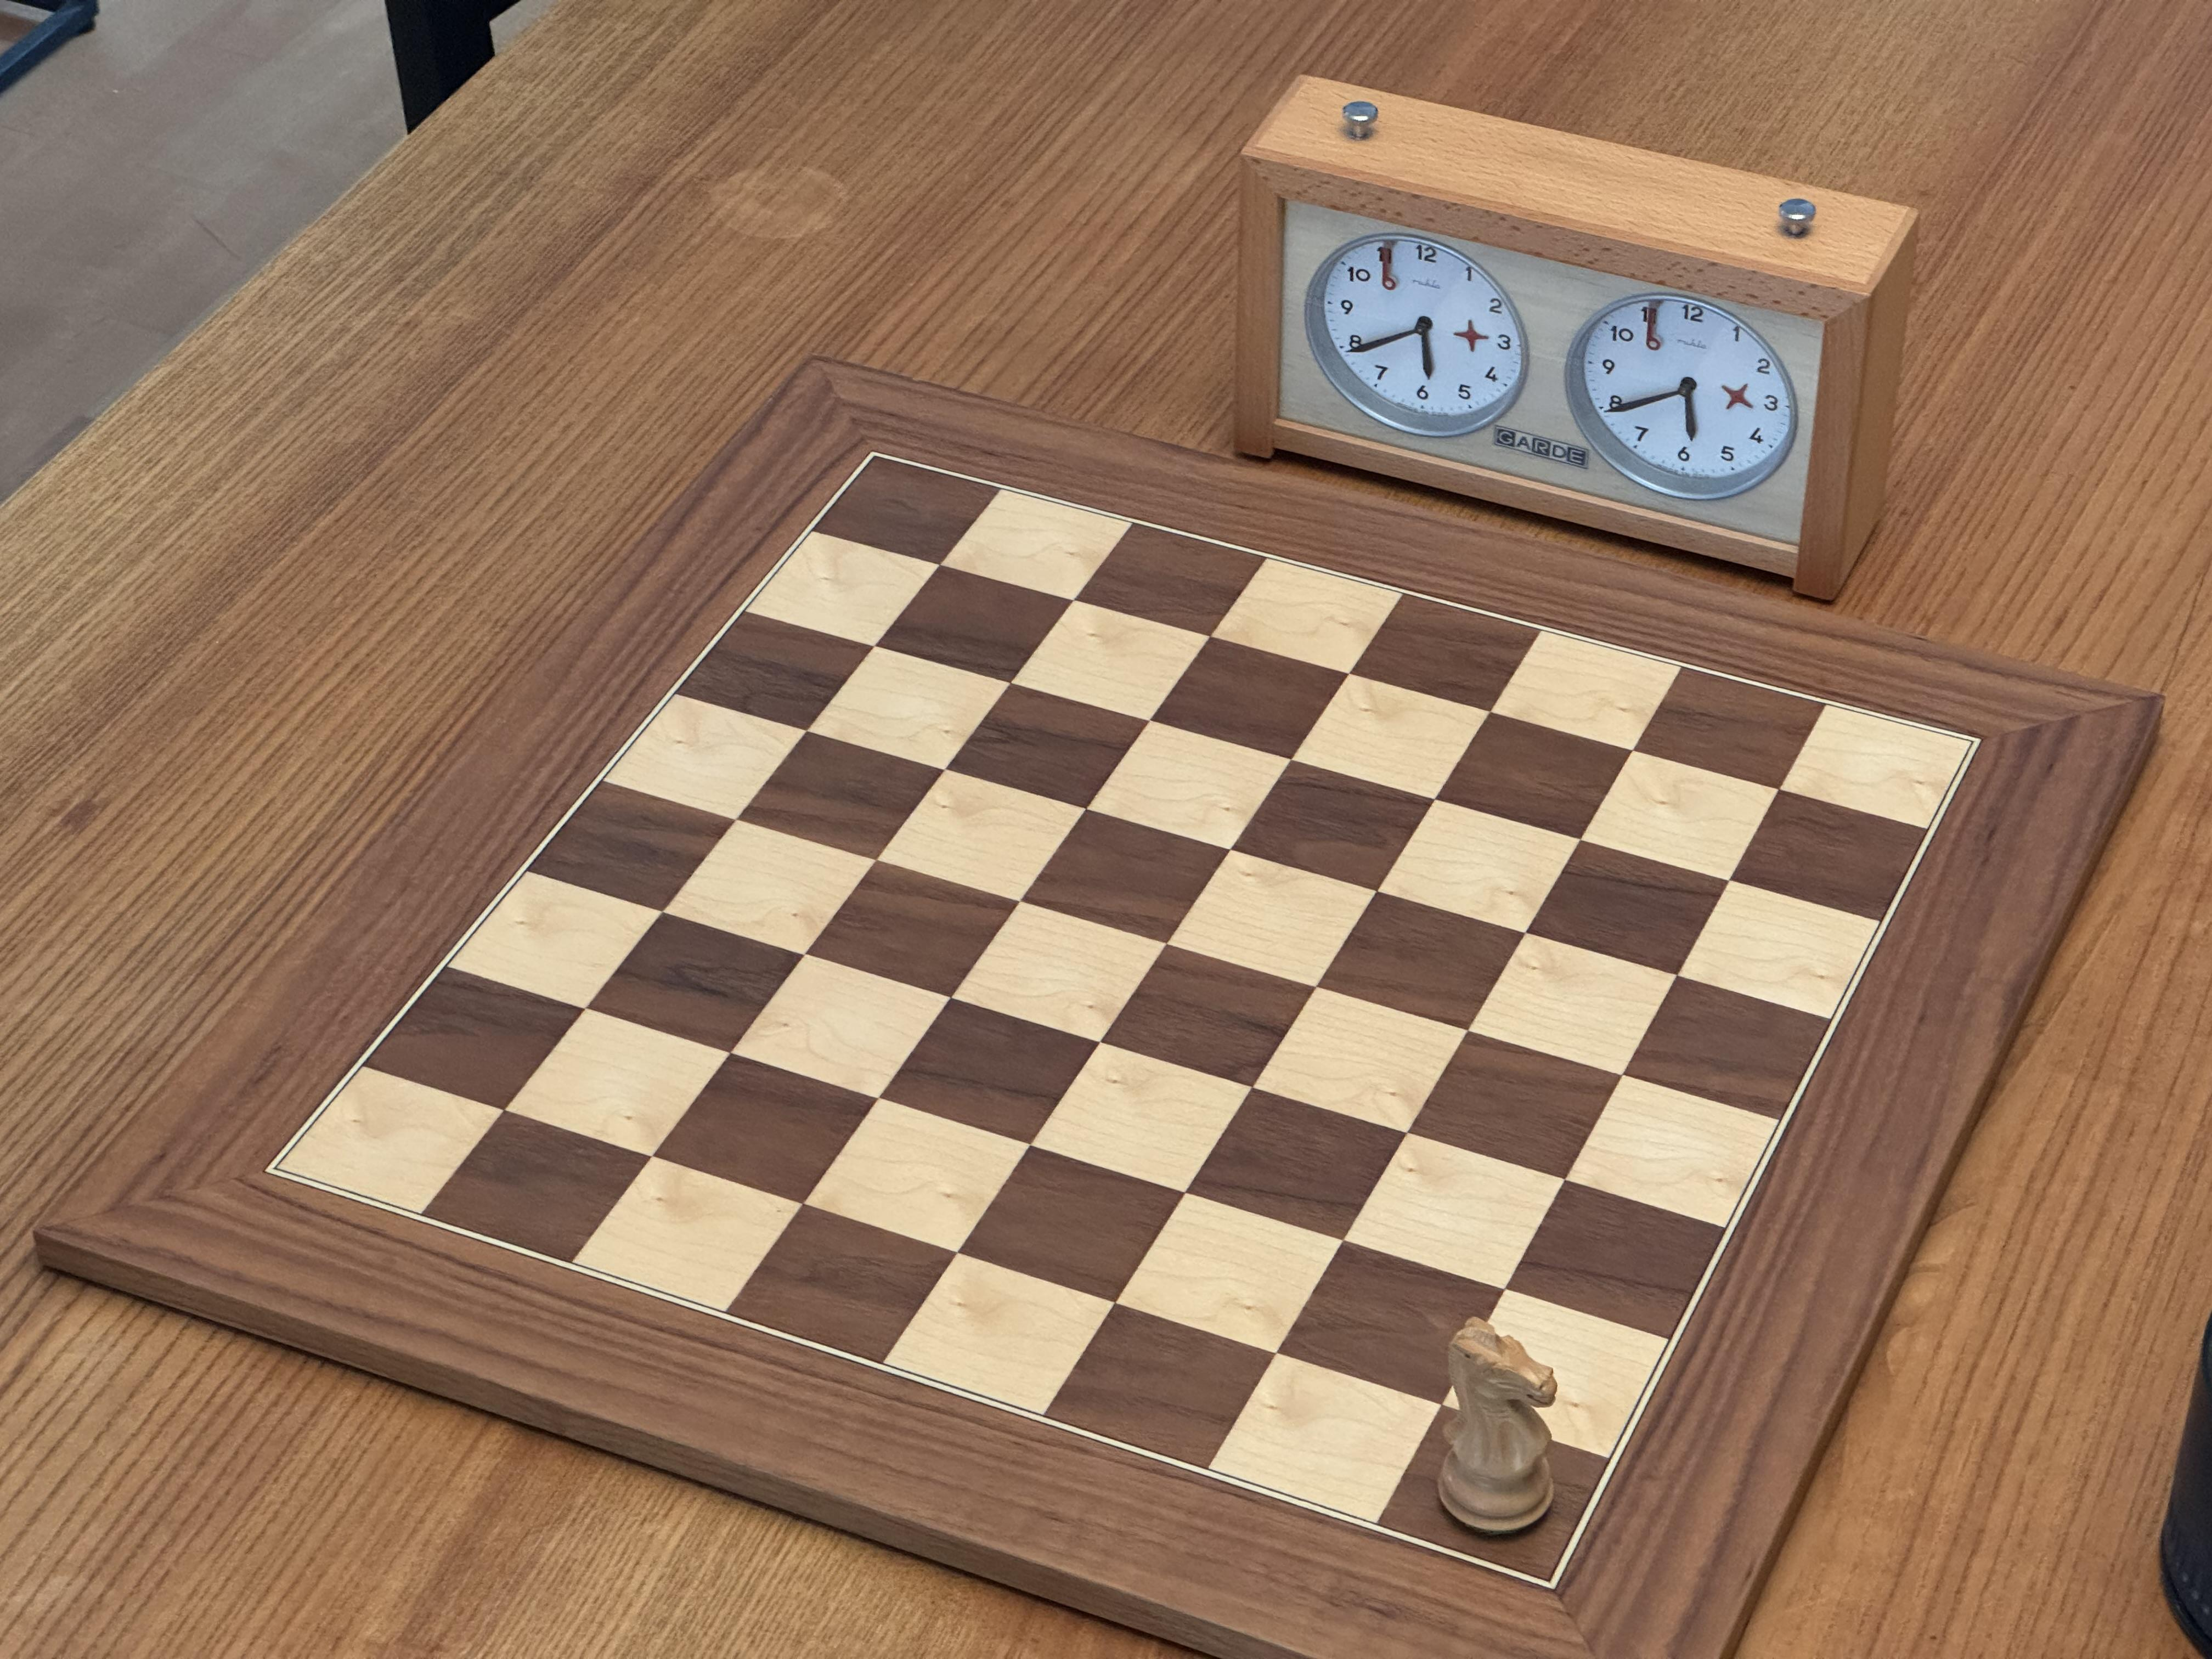White Knight: (1423, 1310, 1569, 1544)
